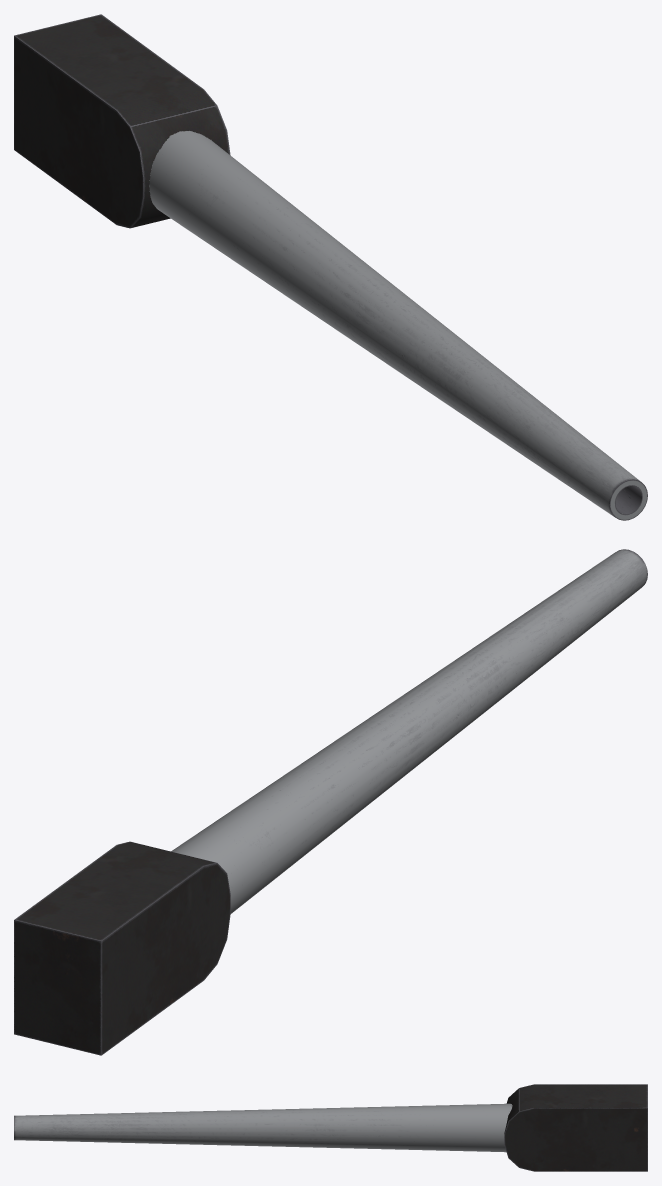
The model's file is gun_l_2.fbx.
3 views of the same model, one above another, from view 1: azimuth 30°, elevation 25°; view 2: azimuth 150°, elevation 25°; view 3: azimuth 270°, elevation 25° (orthographic). The views are drawn at different scales.
Parts seen in each view (by area): view 1: gun_l_2; view 2: gun_l_2; view 3: gun_l_2.
Boxes of the visible parts, x1,y1,x2,y2 form: gun_l_2: [14, 14, 647, 520]; gun_l_2: [14, 549, 647, 1055]; gun_l_2: [14, 1084, 647, 1171].
Bounding box in the file's own units: 1.6 × 2 × 18.1.
